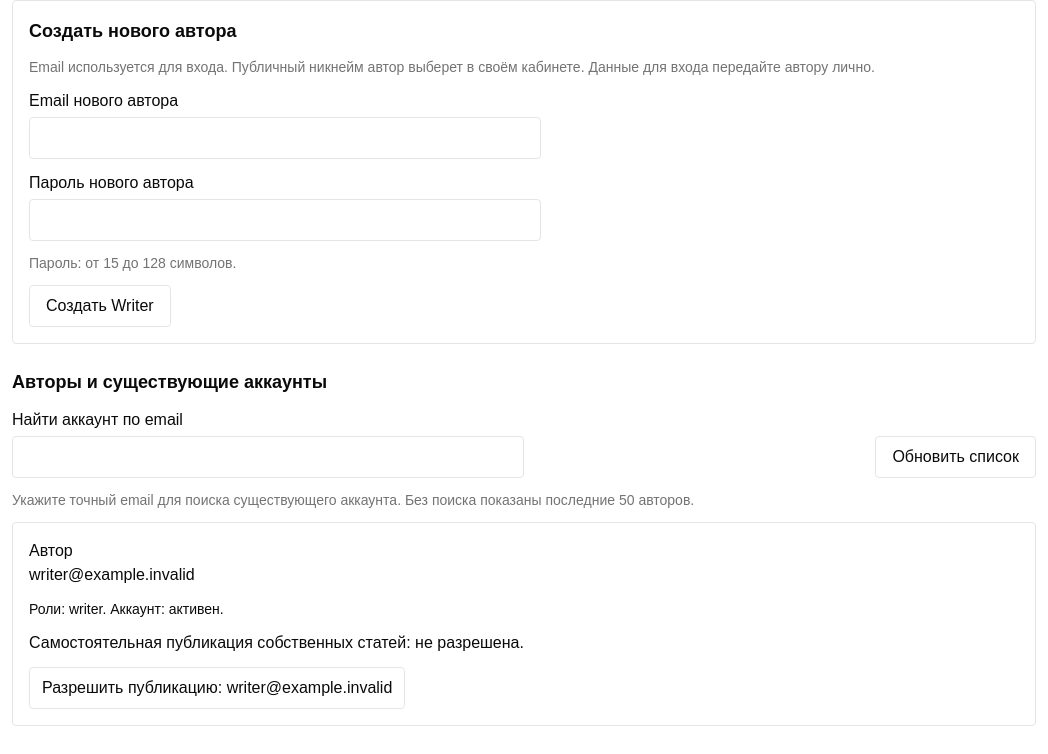
Test case: Writer management UI › uses publication revision and updates only after the confirmed response
Click the button "Разрешить публикацию: writer@example.invalid". click: x=217, y=688
box: [29,667,405,709]
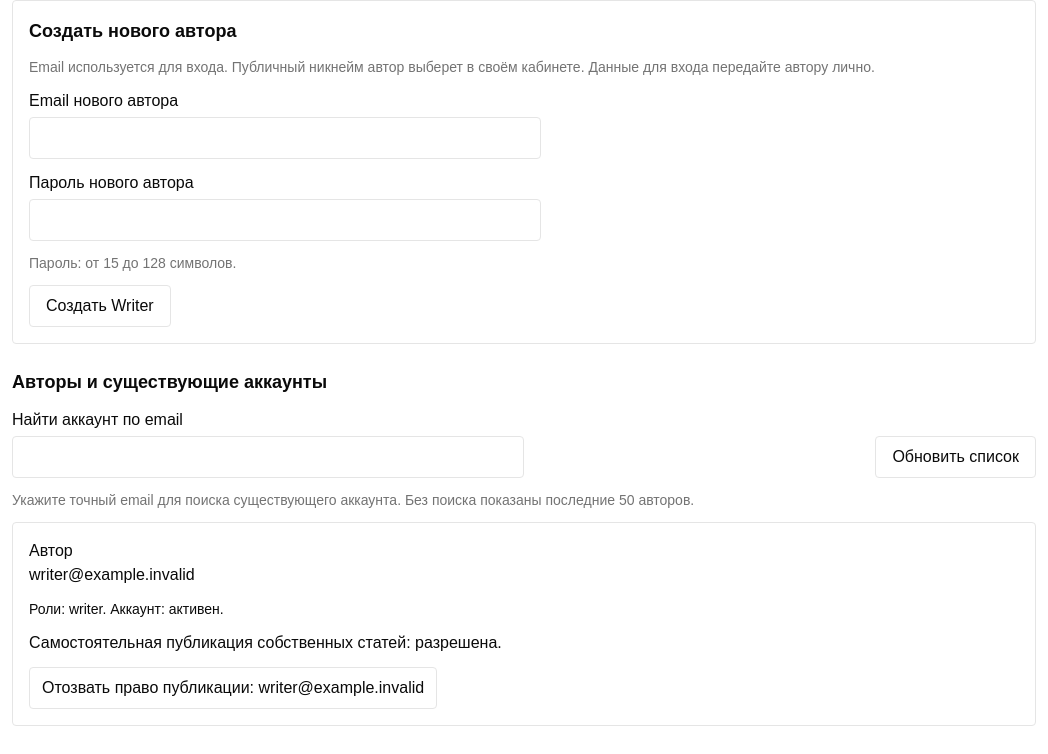
Expected: the button "Отозвать право публикации: writer@example.invalid" is shown, [29,667,437,709]
Expected: the text "Самостоятельная публикация собственных статей: разрешена." is shown, [29,634,502,651]
